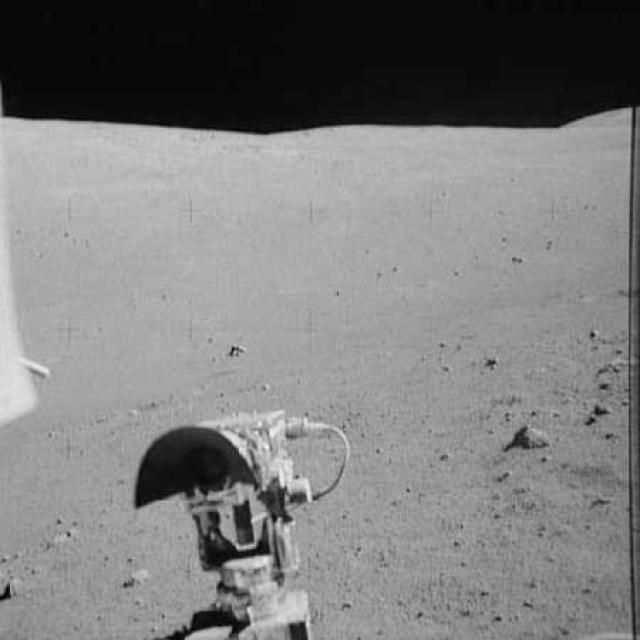artifact: (124, 396, 366, 638)
rock: (503, 418, 556, 449)
